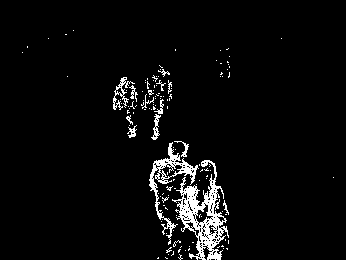person: (149, 141, 195, 258), (181, 159, 231, 259), (143, 67, 174, 141), (112, 75, 139, 137)
